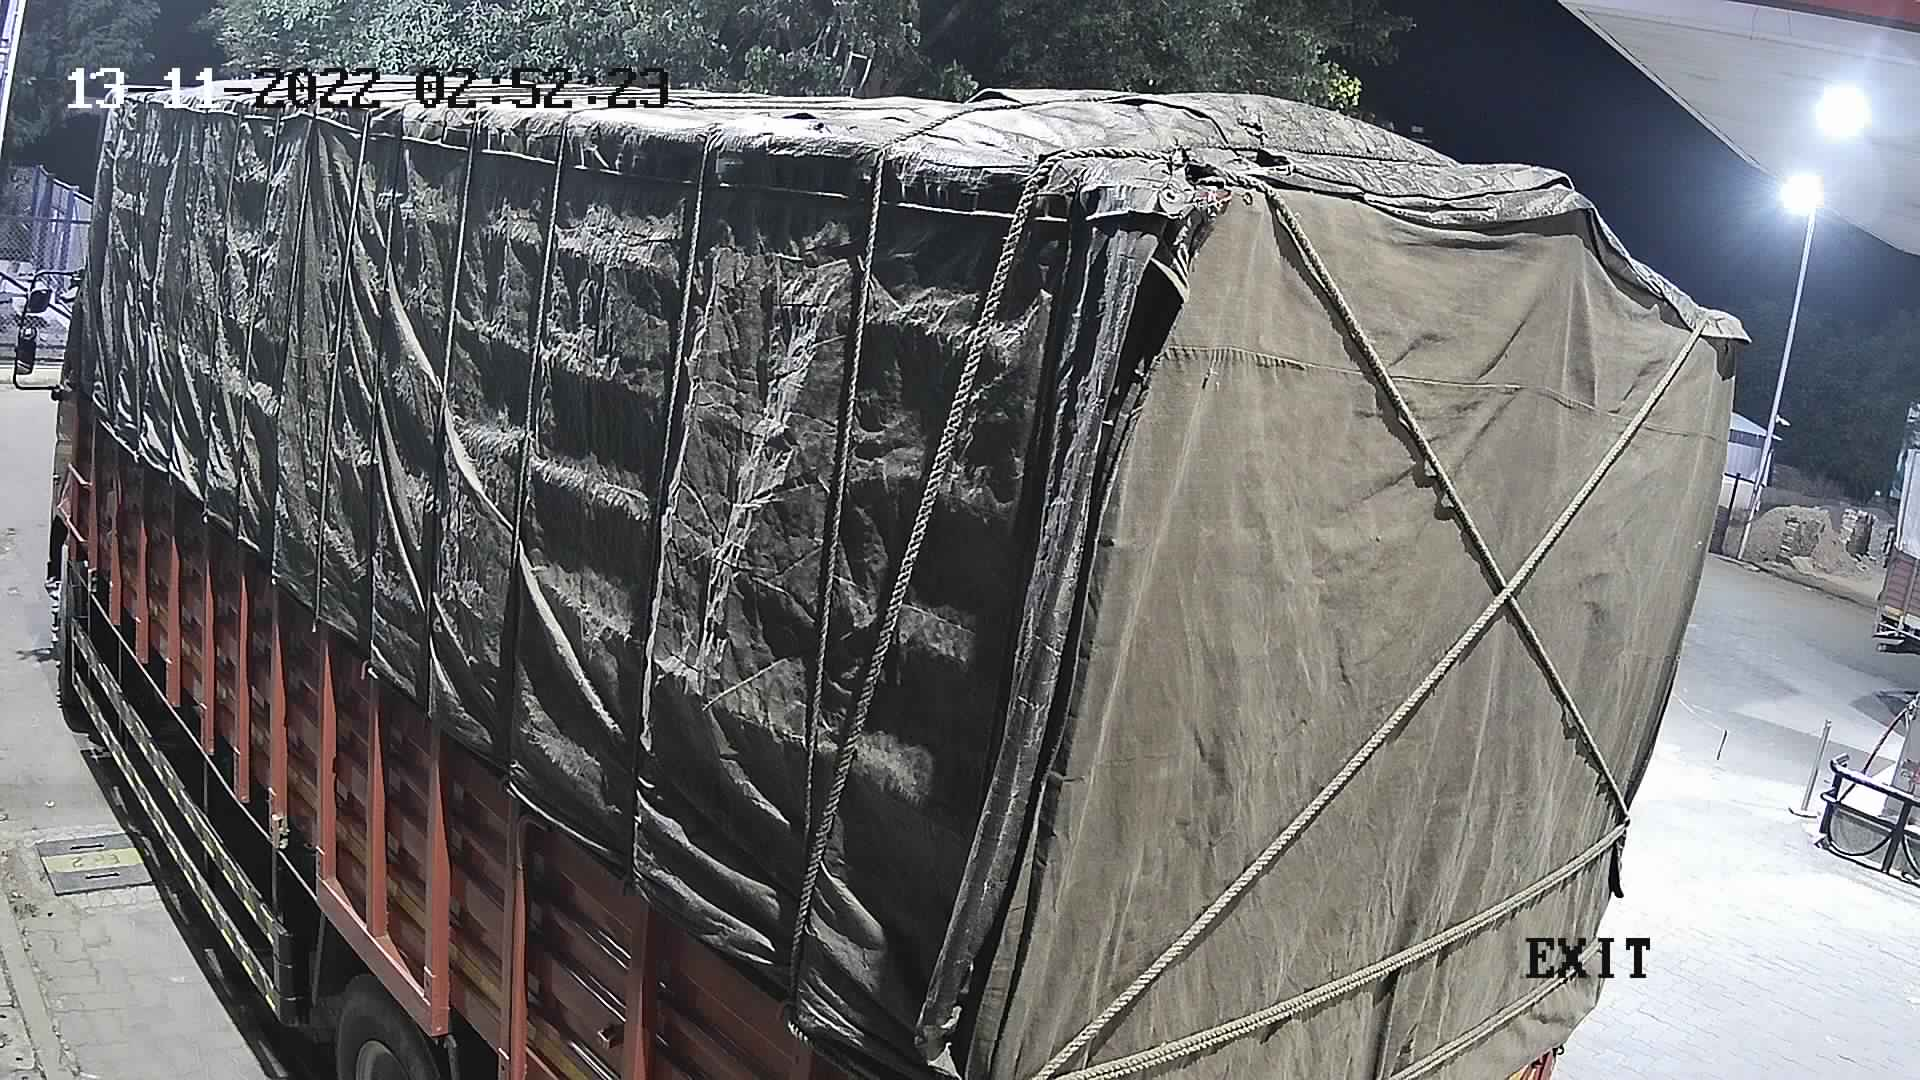HMV: (3, 44, 1780, 1077), (1859, 386, 1917, 704)
